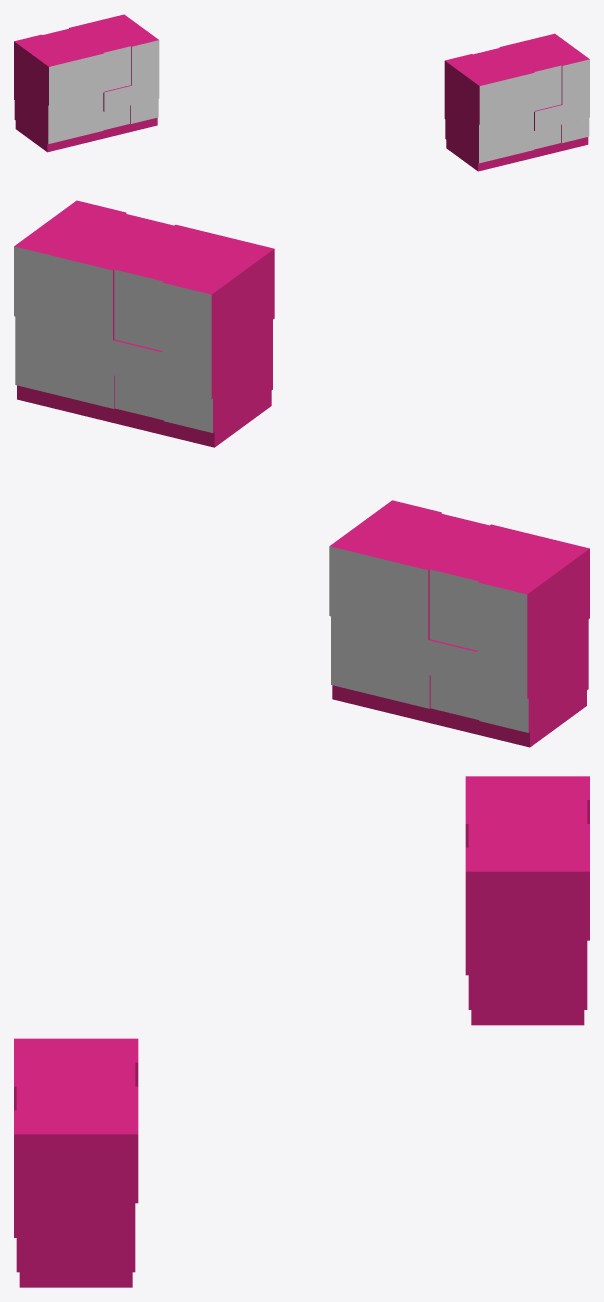
File: imgAds-transformed.glb
3 views of the same model, one above another, from view 1: azimuth 30°, elevation 25°; view 2: azimuth 150°, elevation 25°; view 3: azimuth 270°, elevation 25° (orthographic). The views are drawn at different scales.
Parts seen in each view (by area): view 1: Mesh45 Group24 Model.017, Mesh45 Group24 Model, imgAd1.001, imgAd1, imgAd4, imgAd4.001, imgAd3, imgAd5, imgAd3.001, imgAd5.001, imgAd2, imgAd2.001 (+4 smaller); view 2: Mesh45 Group24 Model, Mesh45 Group24 Model.017, imgAdb1, imgAdb1.001, imgAdb4.001, imgAdb1.002, imgAdb3, imgAdb5, imgAdb3.001, imgAdb5.001, imgAdb2.001, imgAdb2 (+4 smaller); view 3: Mesh45 Group24 Model, Mesh45 Group24 Model.017.
Part boxes in pixels (x1,y1,x2,y2): Mesh45 Group24 Model.017: (444,33,589,171); Mesh45 Group24 Model: (14,14,158,152); imgAd1.001: (479,72,534,124); imgAd1: (49,53,104,105); imgAd4: (48,93,103,143); imgAd4.001: (479,112,533,163); imgAd3: (131,40,159,85); imgAd5: (104,79,159,111); imgAd3.001: (562,59,589,104); imgAd5.001: (535,98,589,130); imgAd2: (104,46,130,91); imgAd2.001: (534,65,561,110); Mesh45 Group24 Model: (330,500,589,747); Mesh45 Group24 Model.017: (14,200,274,447); imgAdb1: (329,546,428,639); imgAdb1.001: (14,246,112,340); imgAdb4.001: (15,316,114,408); imgAdb1.002: (331,616,429,708); imgAdb3: (477,582,527,663); imgAdb5: (428,640,527,698); imgAdb3.001: (162,282,211,364); imgAdb5.001: (113,340,211,399); imgAdb2.001: (114,269,163,350); imgAdb2: (429,569,478,650); Mesh45 Group24 Model: (465,776,589,1025); Mesh45 Group24 Model.017: (14,1038,138,1287).
Size of the model in its own units: 150 by 30 by 102.
